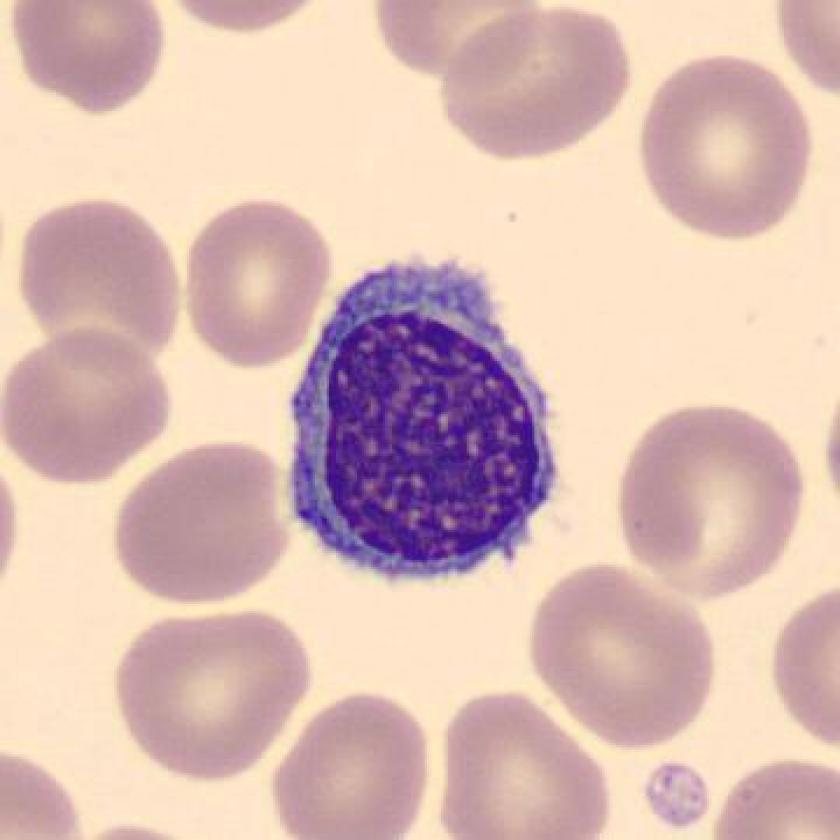lymphocyte: (272, 246, 577, 596)
